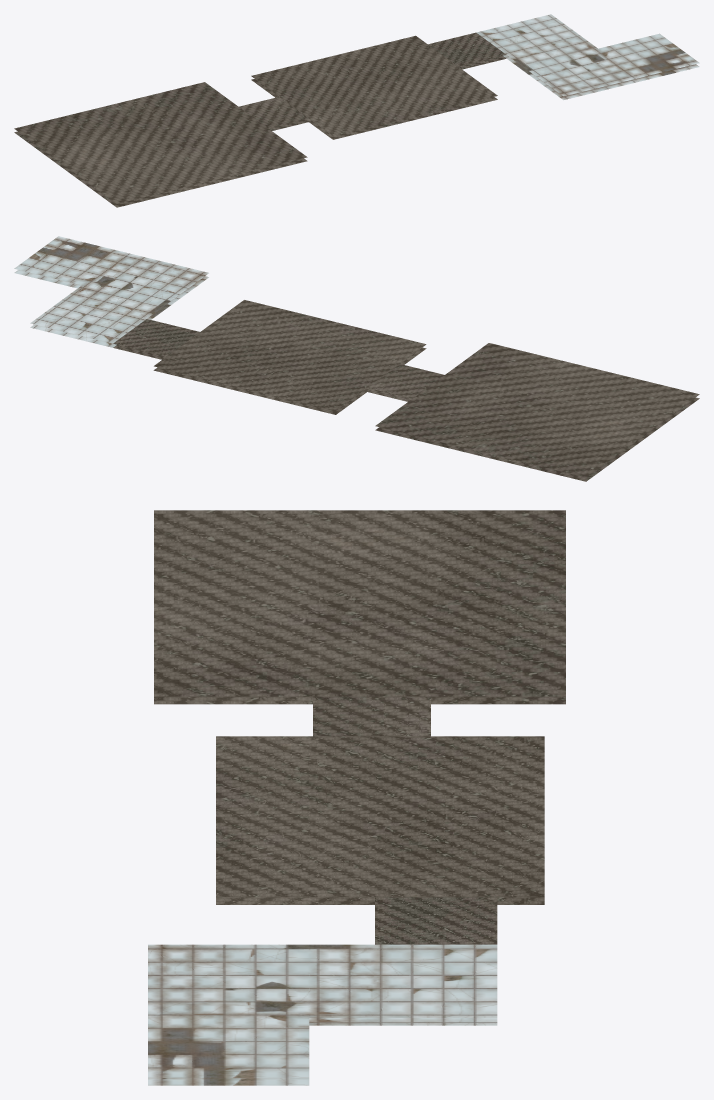
Rendered from floor_gallery2gallery3.fbx.
3 renders of one model, top to bottom at view 1: azimuth 30°, elevation 25°; view 2: azimuth 150°, elevation 25°; view 3: azimuth 270°, elevation 25°, orthographic. The views are drawn at different scales.
Visible parts, largest first — view 1: floor_gallery2-3; view 2: floor_gallery2-3; view 3: floor_gallery2-3.
Boxes of the visible parts, x1,y1,x2,y2 form: floor_gallery2-3: [14, 14, 699, 207]; floor_gallery2-3: [14, 236, 699, 481]; floor_gallery2-3: [148, 510, 565, 1085].
Bounding box in the file's own units: 3191 × 20.04 × 993.
2 materials, 2 textured.
